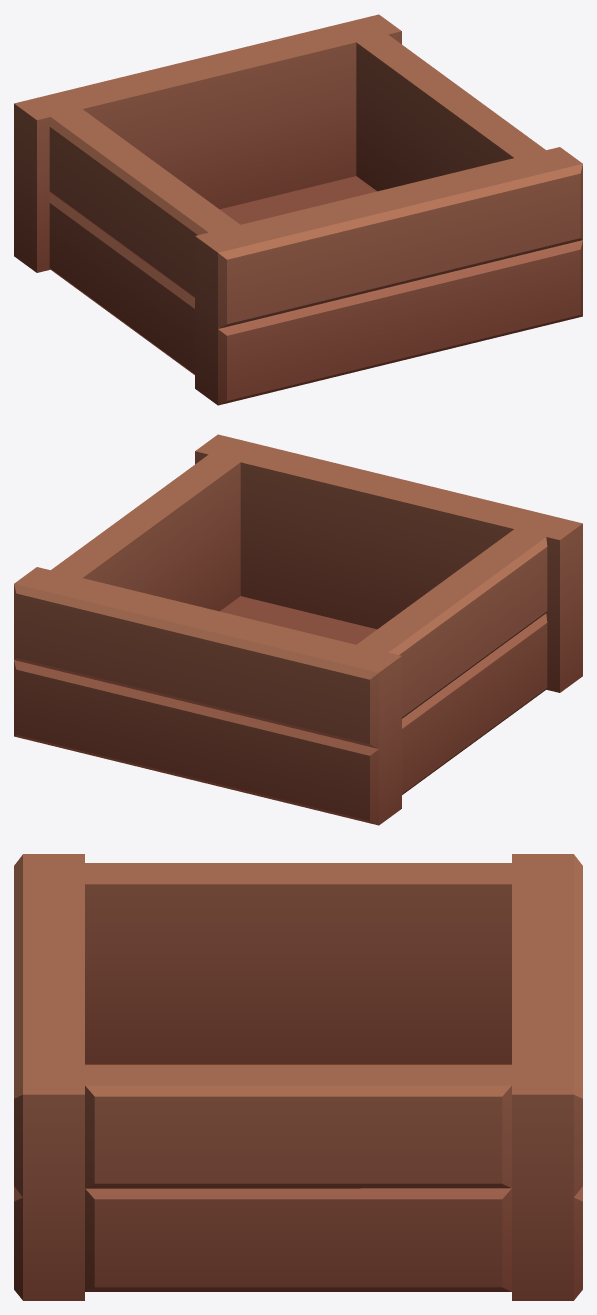
Rendered from crate.obj.
The picture shows the model from 3 angles, top to bottom: view 1: azimuth 30°, elevation 25°; view 2: azimuth 150°, elevation 25°; view 3: azimuth 270°, elevation 25°; orthographic projection. The views are drawn at different scales.
Visible parts, largest first — view 1: crate_Cube.177; view 2: crate_Cube.177; view 3: crate_Cube.177.
Part boxes in pixels (x1=…): crate_Cube.177: x1=14, y1=14, x2=582, y2=405; crate_Cube.177: x1=14, y1=434, x2=582, y2=825; crate_Cube.177: x1=14, y1=854, x2=582, y2=1300.
Bounding box in the file's own units: 2 × 0.8 × 2.
1 material, 1 textured.
